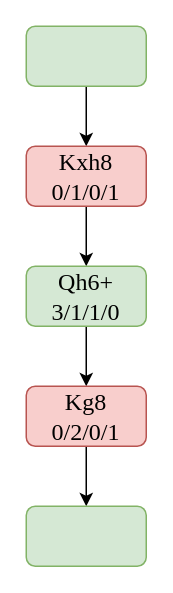
This 173x593 diagram has some shape labels left out. Here are the shapes that lost their labels. From the top down, the centre of each, then its label:
the point at 85,55: Rh8+ 1/1/1/0
the point at 85,535: Qxg7# 2/2/1/1
